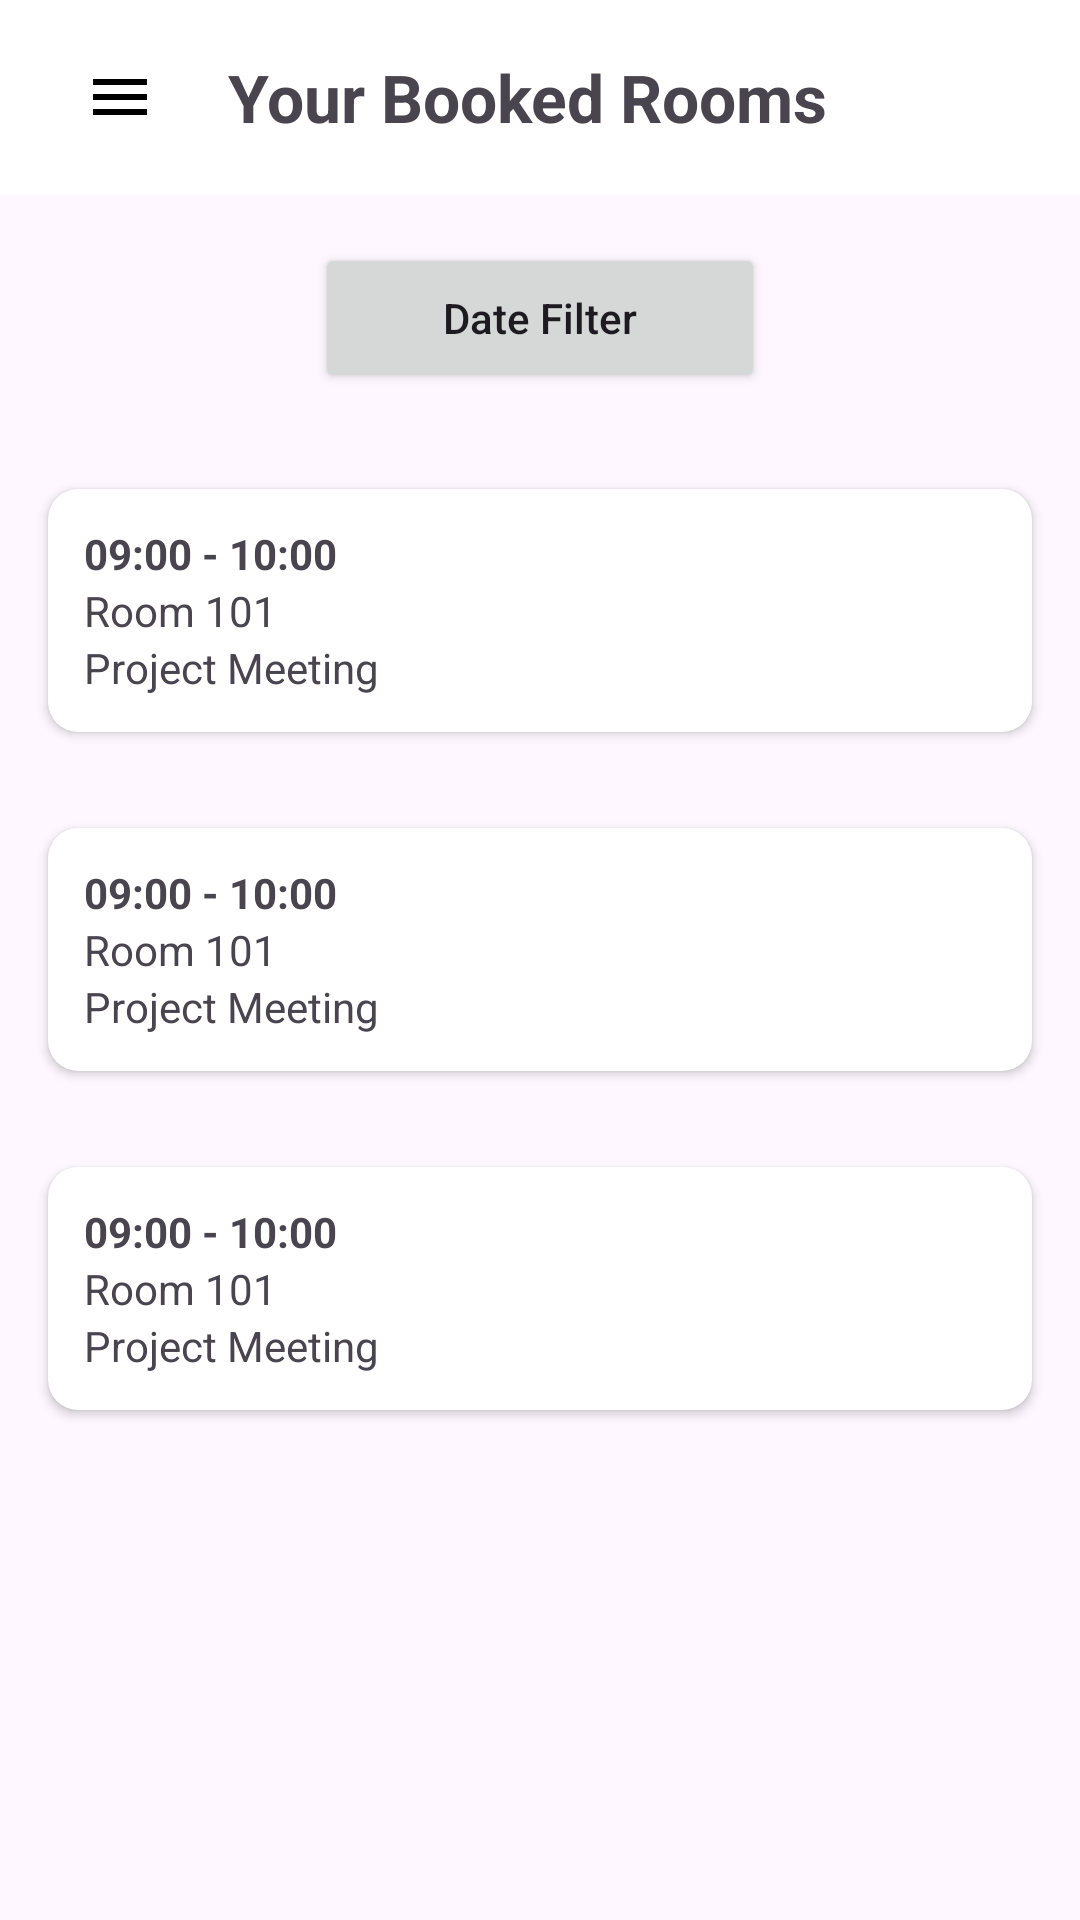

Where to tap for icons on this 1080*1920 app screen, as point (x, y):
menu: point (120, 97)
